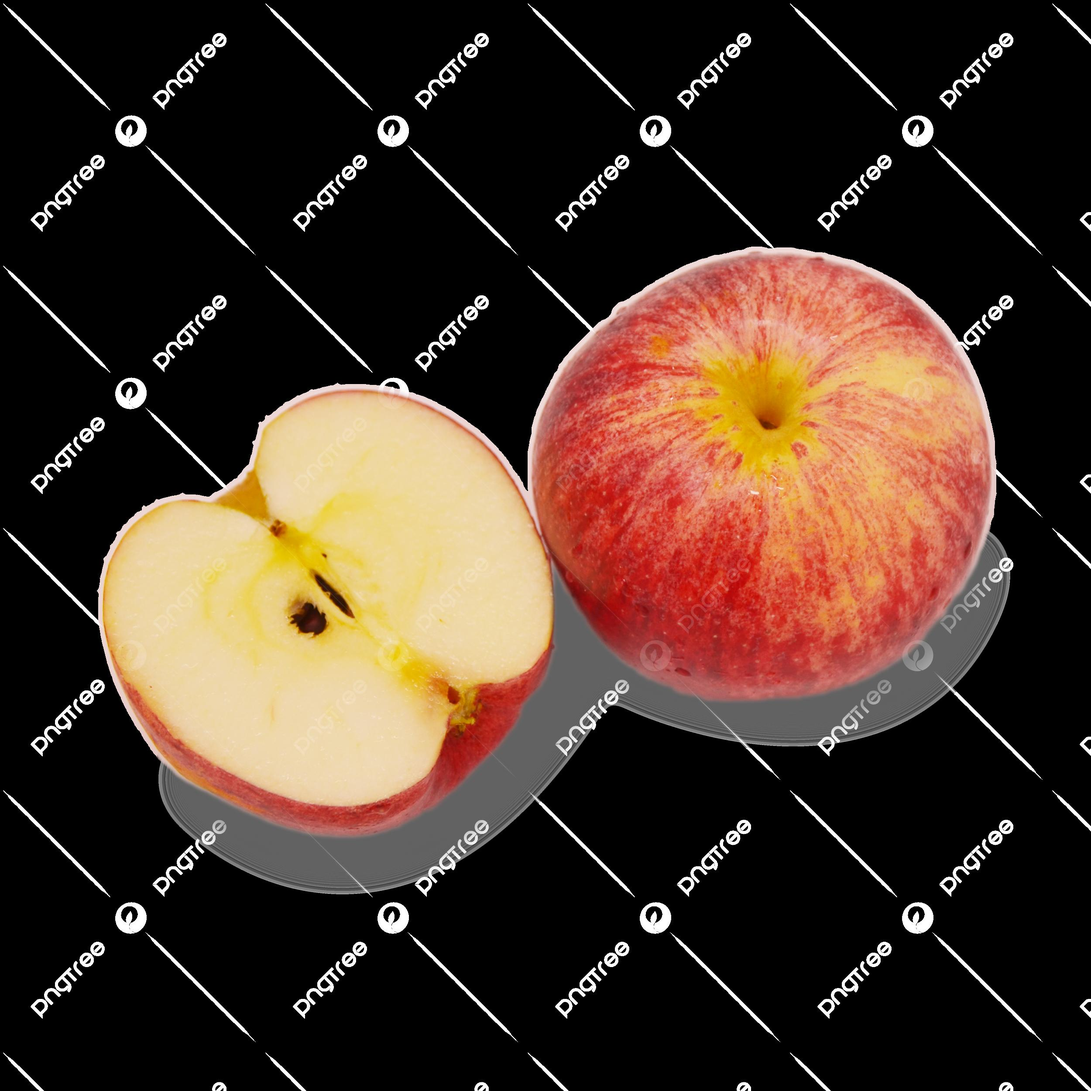apples: (55, 273, 1038, 815)
